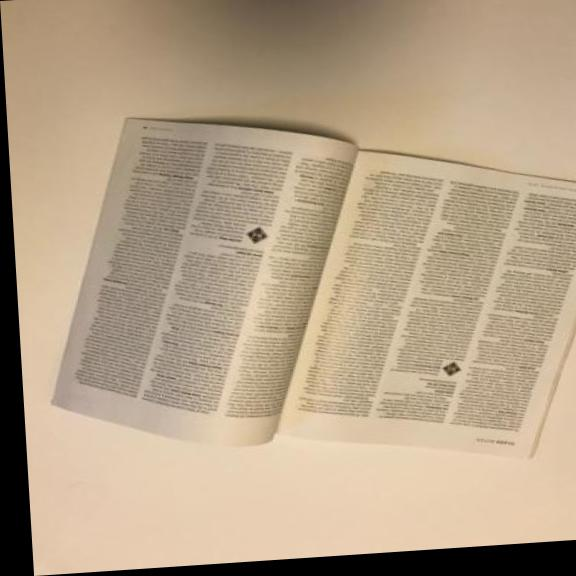Kertas: (25, 82, 576, 495)
